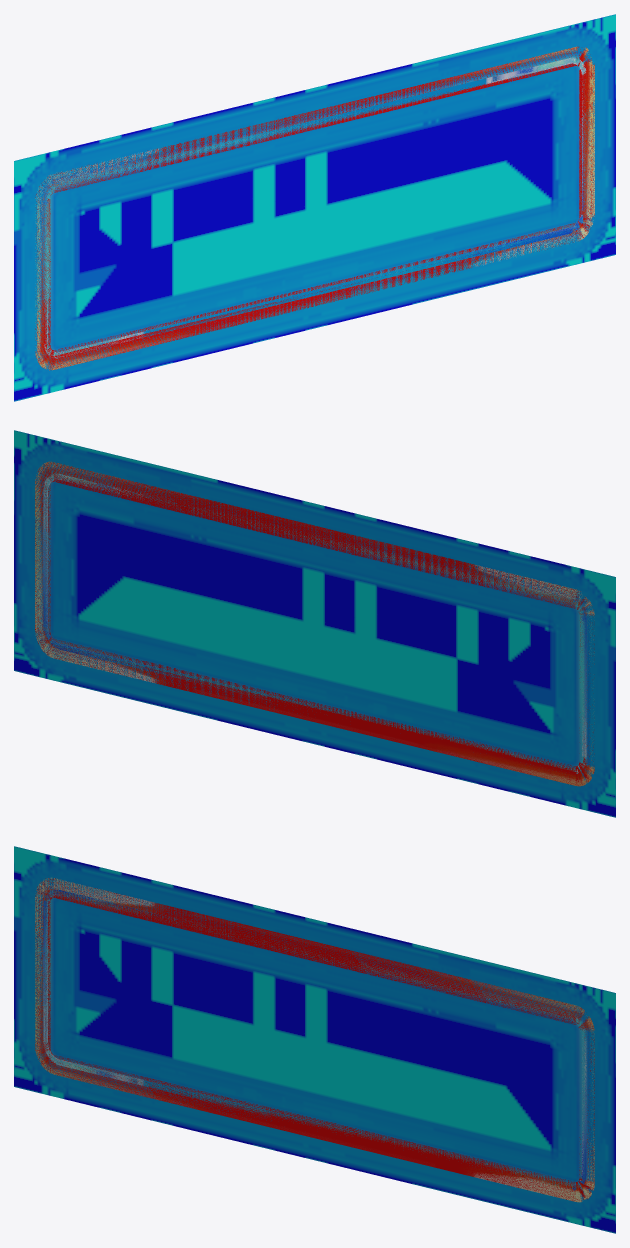
The model's file is ui_lottery.fbx.
3 views of the same model, one above another, from view 1: azimuth 30°, elevation 25°; view 2: azimuth 150°, elevation 25°; view 3: azimuth 330°, elevation 25° (orthographic).
Visible parts, largest first — view 1: di, ui_wuqi_03, ui_wuqi_02, glow_01; view 2: di, ui_wuqi_03, ui_wuqi_02, glow_01; view 3: di, ui_wuqi_03, glow_01, ui_wuqi_02.
Part boxes in pixels (<box>): di: <box>14,14,615,401</box>; ui_wuqi_03: <box>35,47,594,370</box>; ui_wuqi_02: <box>37,46,592,369</box>; glow_01: <box>43,57,586,358</box>; di: <box>14,430,615,817</box>; ui_wuqi_03: <box>35,461,594,786</box>; ui_wuqi_02: <box>37,462,591,783</box>; glow_01: <box>43,473,586,773</box>; di: <box>14,846,615,1233</box>; ui_wuqi_03: <box>35,877,594,1202</box>; glow_01: <box>43,889,586,1190</box>; ui_wuqi_02: <box>37,879,591,1199</box>.
Size of the model in its own units: 227 by 86.69 by 7.65e-13.
